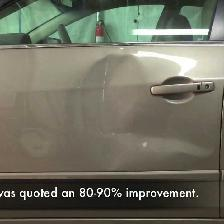dent: (81, 53, 164, 157)
